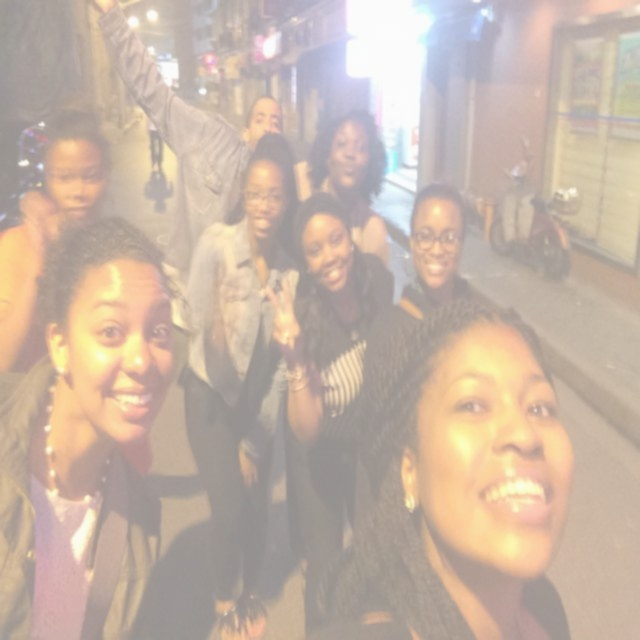pessoa: (319, 295, 578, 639), (0, 205, 186, 640), (174, 130, 312, 640), (263, 190, 396, 638), (99, 5, 288, 276), (360, 180, 490, 396), (303, 104, 393, 267), (41, 111, 113, 236), (146, 116, 166, 172)
